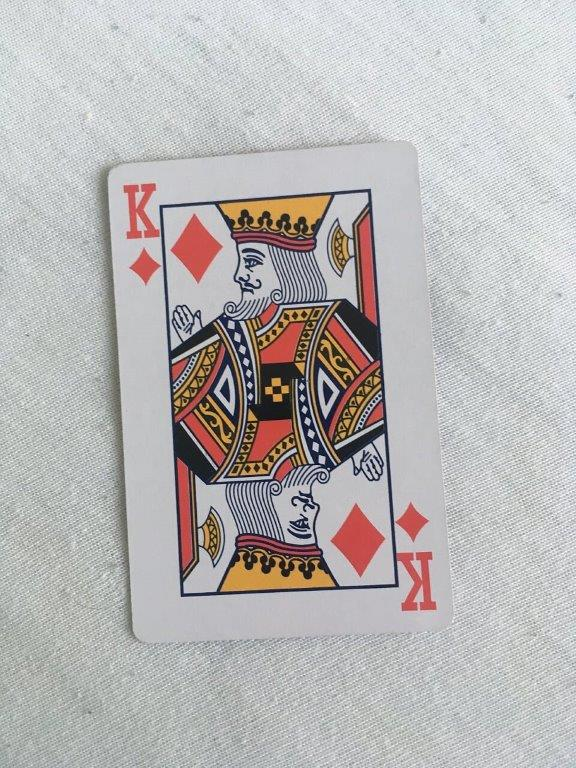KD: (104, 136, 458, 647)
